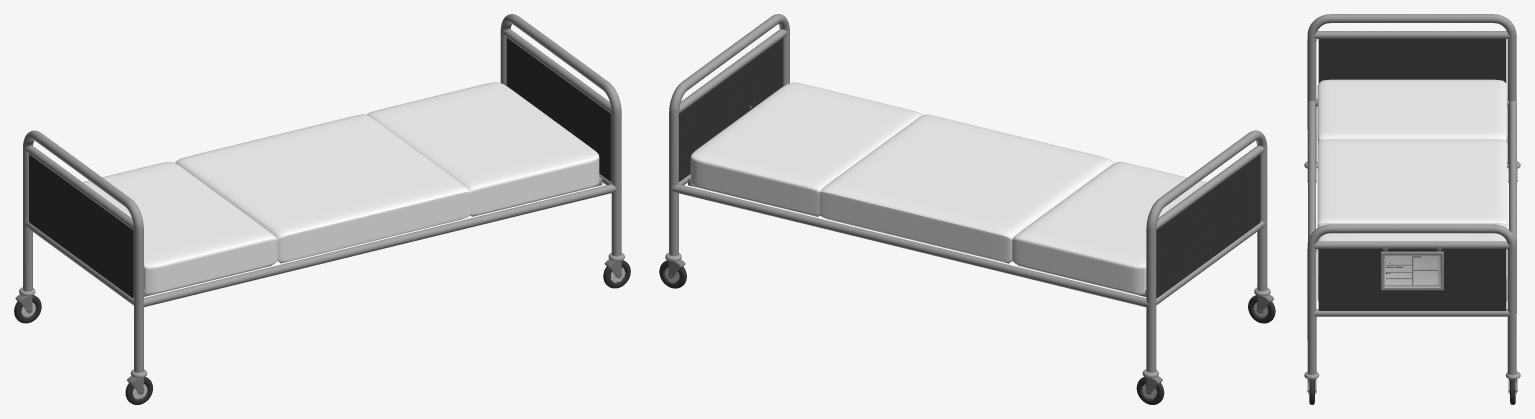
The model's file is Bed.fbx.
3 views of the same model, side by side, from view 1: azimuth 30°, elevation 25°; view 2: azimuth 150°, elevation 25°; view 3: azimuth 270°, elevation 25° (orthographic). The views are drawn at different scales.
Visible parts, largest first — view 1: Bed; view 2: Bed; view 3: Bed.
Part boxes in pixels (x1,y1,x2,y2): Bed: [14, 14, 630, 404]; Bed: [659, 14, 1275, 404]; Bed: [1304, 14, 1520, 404].
Size of what is drawn, in the model's own units: 240 by 90.21 by 98.82.
1 material, 1 textured.
